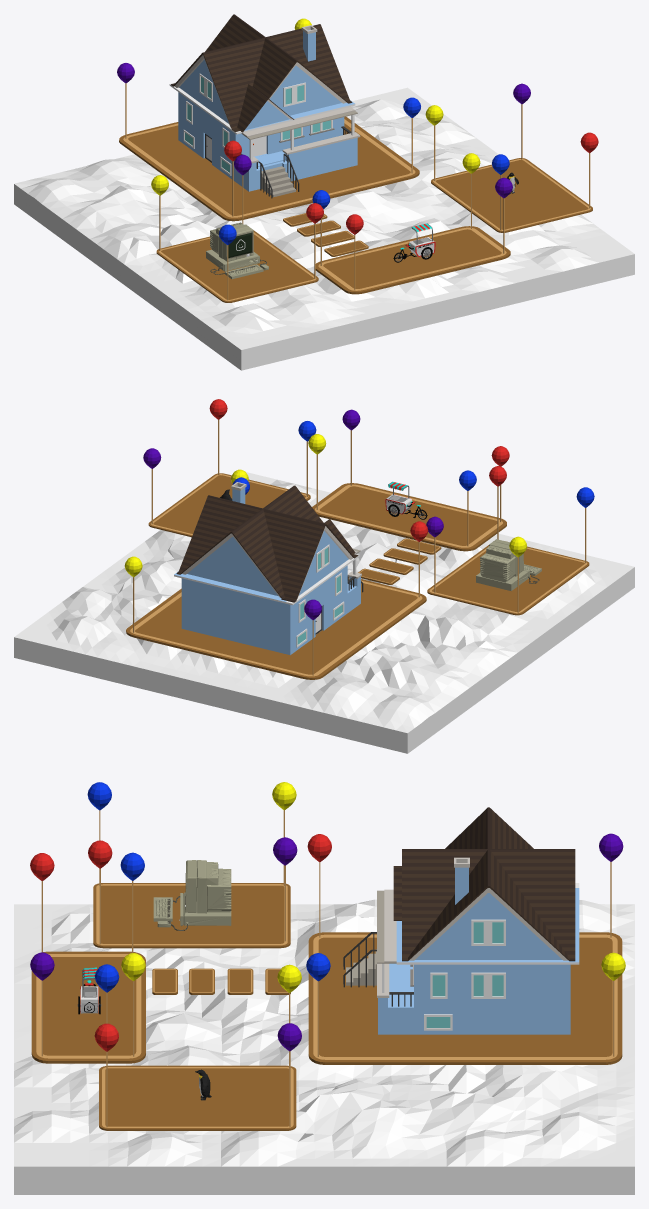
3 views of the same model, one above another, from view 1: azimuth 30°, elevation 25°; view 2: azimuth 150°, elevation 25°; view 3: azimuth 270°, elevation 25° (orthographic). The views are drawn at different scales.
Visible parts, largest first — view 1: Cube.013, Cube.1594, OBJRANDOM_RETRO_PC, VEHICLES_SNOWBAL_BIKE; view 2: Cube.013, Cube.1594, OBJRANDOM_RETRO_PC, VEHICLES_SNOWBAL_BIKE; view 3: Cube.013, Cube.1594, OBJRANDOM_RETRO_PC, VEHICLES_SNOWBAL_BIKE.
Boxes of the visible parts, x1,y1,x2,y2 form: Cube.013: [14, 18, 634, 370]; Cube.1594: [169, 14, 360, 198]; OBJRANDOM_RETRO_PC: [206, 222, 268, 279]; VEHICLES_SNOWBAL_BIKE: [393, 223, 435, 262]; Cube.013: [14, 399, 634, 753]; Cube.1594: [174, 482, 363, 655]; OBJRANDOM_RETRO_PC: [476, 539, 541, 590]; VEHICLES_SNOWBAL_BIKE: [385, 481, 427, 519]; Cube.013: [14, 782, 634, 1194]; Cube.1594: [343, 807, 579, 1034]; OBJRANDOM_RETRO_PC: [153, 860, 231, 930]; VEHICLES_SNOWBAL_BIKE: [77, 967, 101, 1014].
Bounding box in the file's own units: 4000 × 1687 × 4000.
35 materials, 1 textured.
